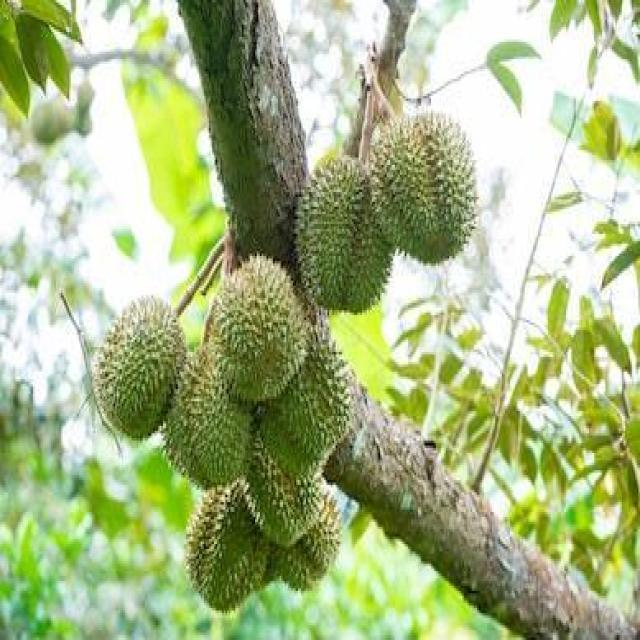immature: (365, 108, 479, 265), (293, 150, 397, 316), (210, 252, 314, 406), (91, 289, 185, 440), (161, 346, 255, 488), (185, 483, 275, 614)
